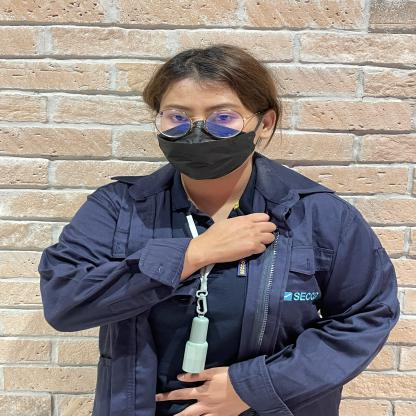Sadness: (27, 203, 340, 332)
